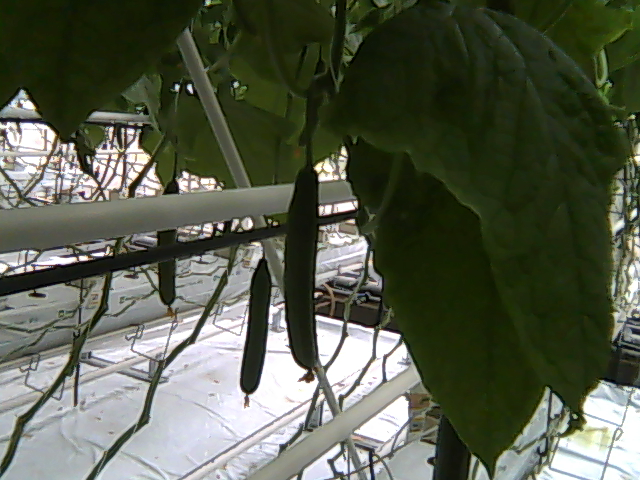concombre: (284, 158, 325, 386), (431, 413, 475, 480)
